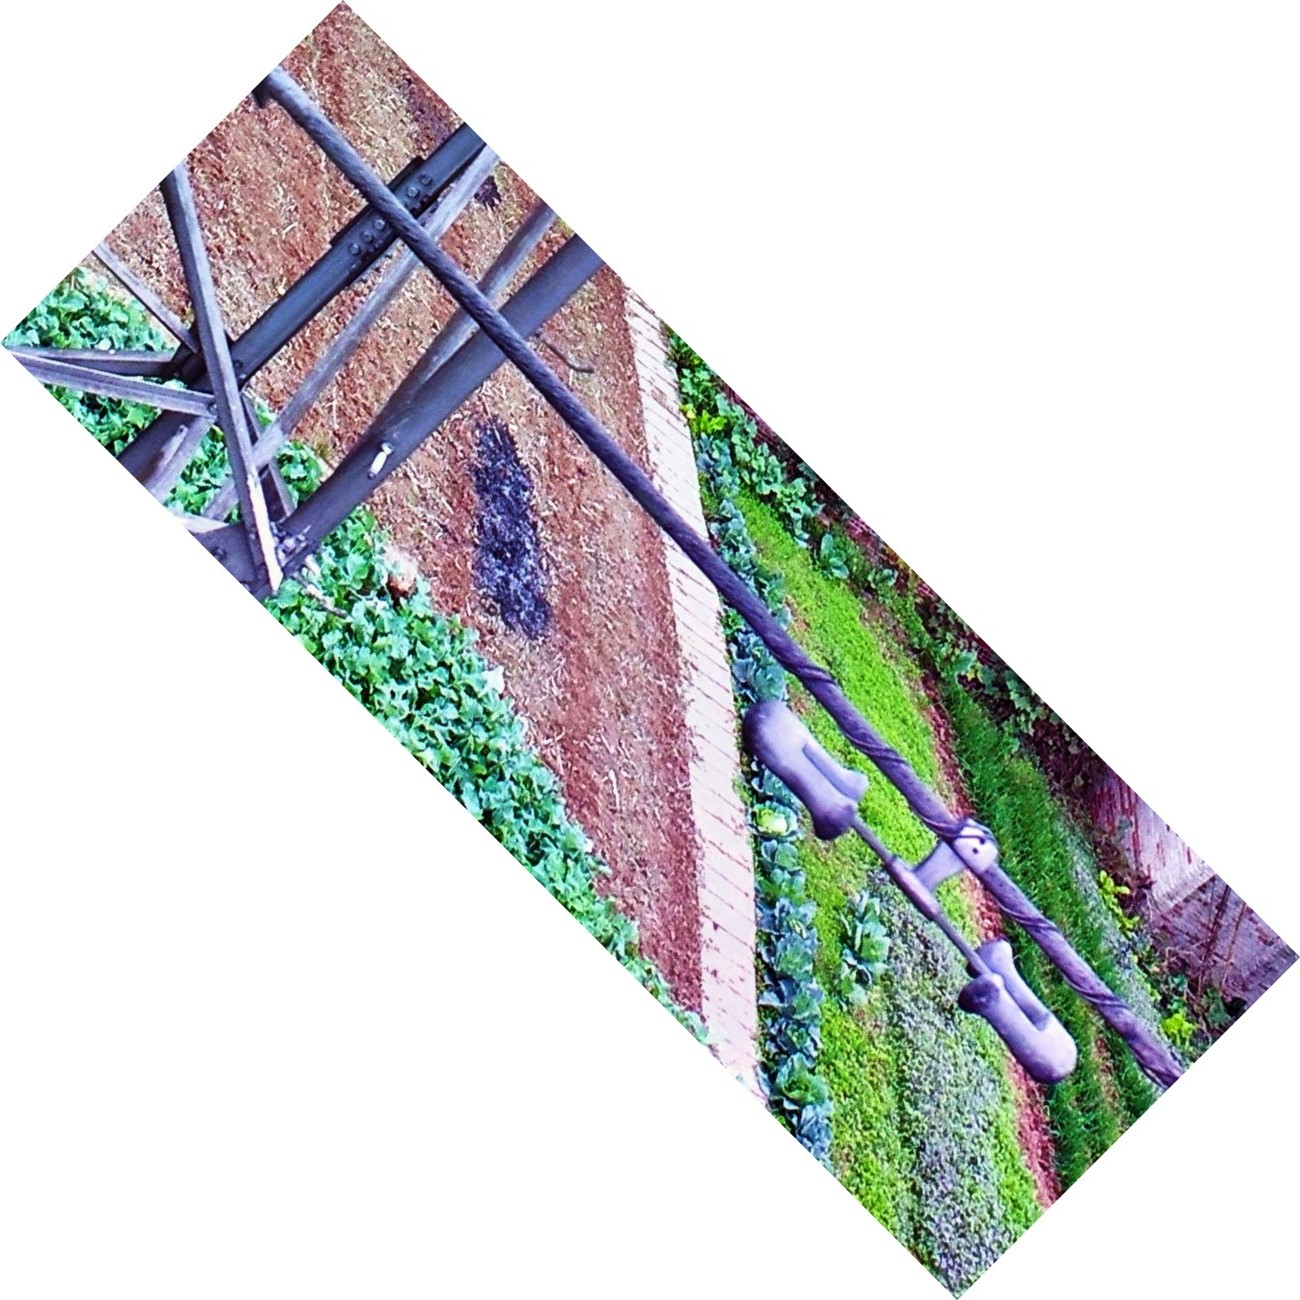Shockproof hammer: (736, 674, 1102, 1090)
